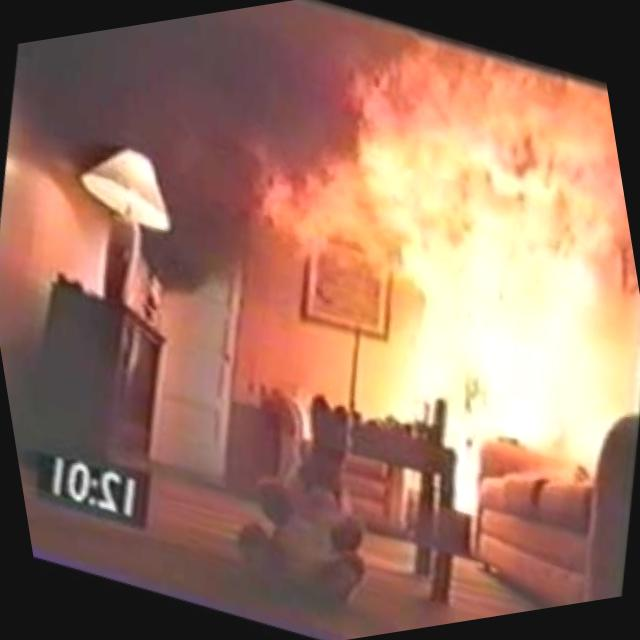fire: (307, 2, 640, 500)
smoke: (8, 0, 383, 266)
